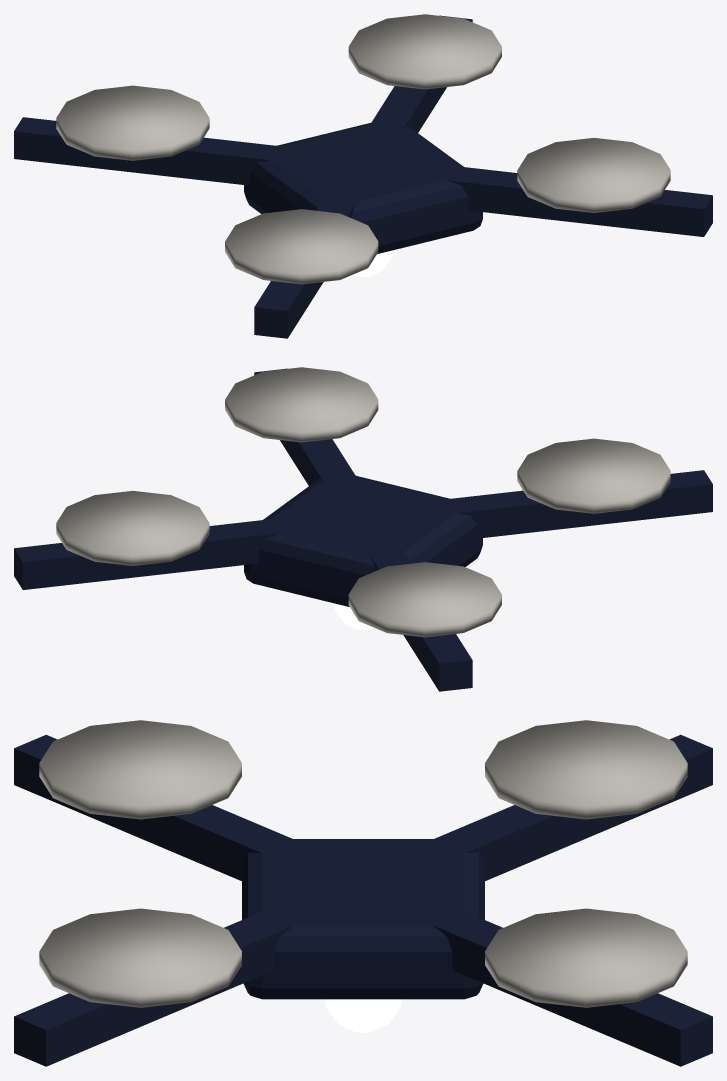
Rendered from DroneShow_blockout.glb.
The picture shows the model from 3 angles, top to bottom: view 1: azimuth 30°, elevation 25°; view 2: azimuth 150°, elevation 25°; view 3: azimuth 270°, elevation 25°; orthographic projection. The views are drawn at different scales.
Parts seen in each view (by area): view 1: ENV19_DroneShow_Body_L0, ENV19_DroneShow_Arm2_L0, ENV19_DroneShow_Rotor3_L0, ENV19_DroneShow_Rotor2_L0, ENV19_DroneShow_Rotor1_L0, ENV19_DroneShow_Rotor0_L0, ENV19_DroneShow_Arm1_L0, ENV19_DroneShow_Arm0_L0, ENV19_DroneShow_Arm3_L0; view 2: ENV19_DroneShow_Body_L0, ENV19_DroneShow_Arm0_L0, ENV19_DroneShow_Rotor1_L0, ENV19_DroneShow_Rotor0_L0, ENV19_DroneShow_Rotor3_L0, ENV19_DroneShow_Rotor2_L0, ENV19_DroneShow_Arm3_L0, ENV19_DroneShow_Arm2_L0, ENV19_DroneShow_Arm1_L0; view 3: ENV19_DroneShow_Body_L0, ENV19_DroneShow_Rotor0_L0, ENV19_DroneShow_Rotor1_L0, ENV19_DroneShow_Rotor2_L0, ENV19_DroneShow_Rotor3_L0, ENV19_DroneShow_Arm1_L0, ENV19_DroneShow_Arm3_L0, ENV19_DroneShow_Arm0_L0, ENV19_DroneShow_Arm2_L0, ENV19_DroneShow_Light_L0.
Boxes of the visible parts, x1,y1,x2,y2 form: ENV19_DroneShow_Body_L0: [244, 123, 482, 253]; ENV19_DroneShow_Arm2_L0: [14, 117, 482, 203]; ENV19_DroneShow_Rotor3_L0: [348, 14, 501, 89]; ENV19_DroneShow_Rotor2_L0: [56, 85, 209, 160]; ENV19_DroneShow_Rotor1_L0: [517, 138, 670, 212]; ENV19_DroneShow_Rotor0_L0: [225, 209, 378, 284]; ENV19_DroneShow_Arm1_L0: [244, 143, 712, 236]; ENV19_DroneShow_Arm0_L0: [254, 113, 410, 338]; ENV19_DroneShow_Arm3_L0: [344, 15, 472, 218]; ENV19_DroneShow_Body_L0: [244, 476, 482, 606]; ENV19_DroneShow_Arm0_L0: [244, 470, 712, 563]; ENV19_DroneShow_Rotor1_L0: [225, 367, 378, 442]; ENV19_DroneShow_Rotor0_L0: [517, 438, 670, 513]; ENV19_DroneShow_Rotor3_L0: [56, 491, 209, 565]; ENV19_DroneShow_Rotor2_L0: [348, 562, 501, 637]; ENV19_DroneShow_Arm3_L0: [14, 510, 482, 589]; ENV19_DroneShow_Arm2_L0: [316, 466, 472, 691]; ENV19_DroneShow_Arm1_L0: [254, 368, 408, 571]; ENV19_DroneShow_Body_L0: [242, 839, 484, 999]; ENV19_DroneShow_Rotor0_L0: [39, 720, 241, 819]; ENV19_DroneShow_Rotor1_L0: [39, 908, 241, 1007]; ENV19_DroneShow_Rotor2_L0: [485, 720, 687, 819]; ENV19_DroneShow_Rotor3_L0: [485, 908, 687, 1007]; ENV19_DroneShow_Arm1_L0: [14, 829, 490, 1066]; ENV19_DroneShow_Arm3_L0: [236, 829, 712, 1066]; ENV19_DroneShow_Arm0_L0: [14, 734, 483, 972]; ENV19_DroneShow_Arm2_L0: [269, 734, 712, 972]; ENV19_DroneShow_Light_L0: [324, 999, 402, 1032].
Size of the model in its own units: 0.6902 by 0.1875 by 0.6902.
